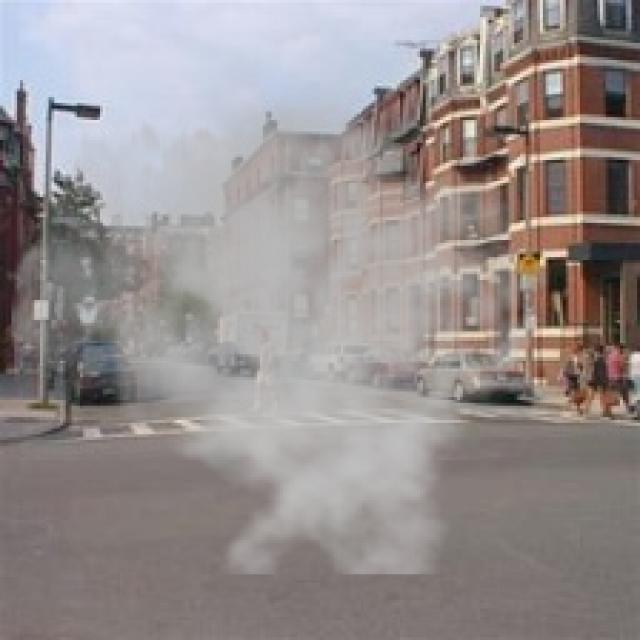Smoke: (8, 52, 554, 574)
